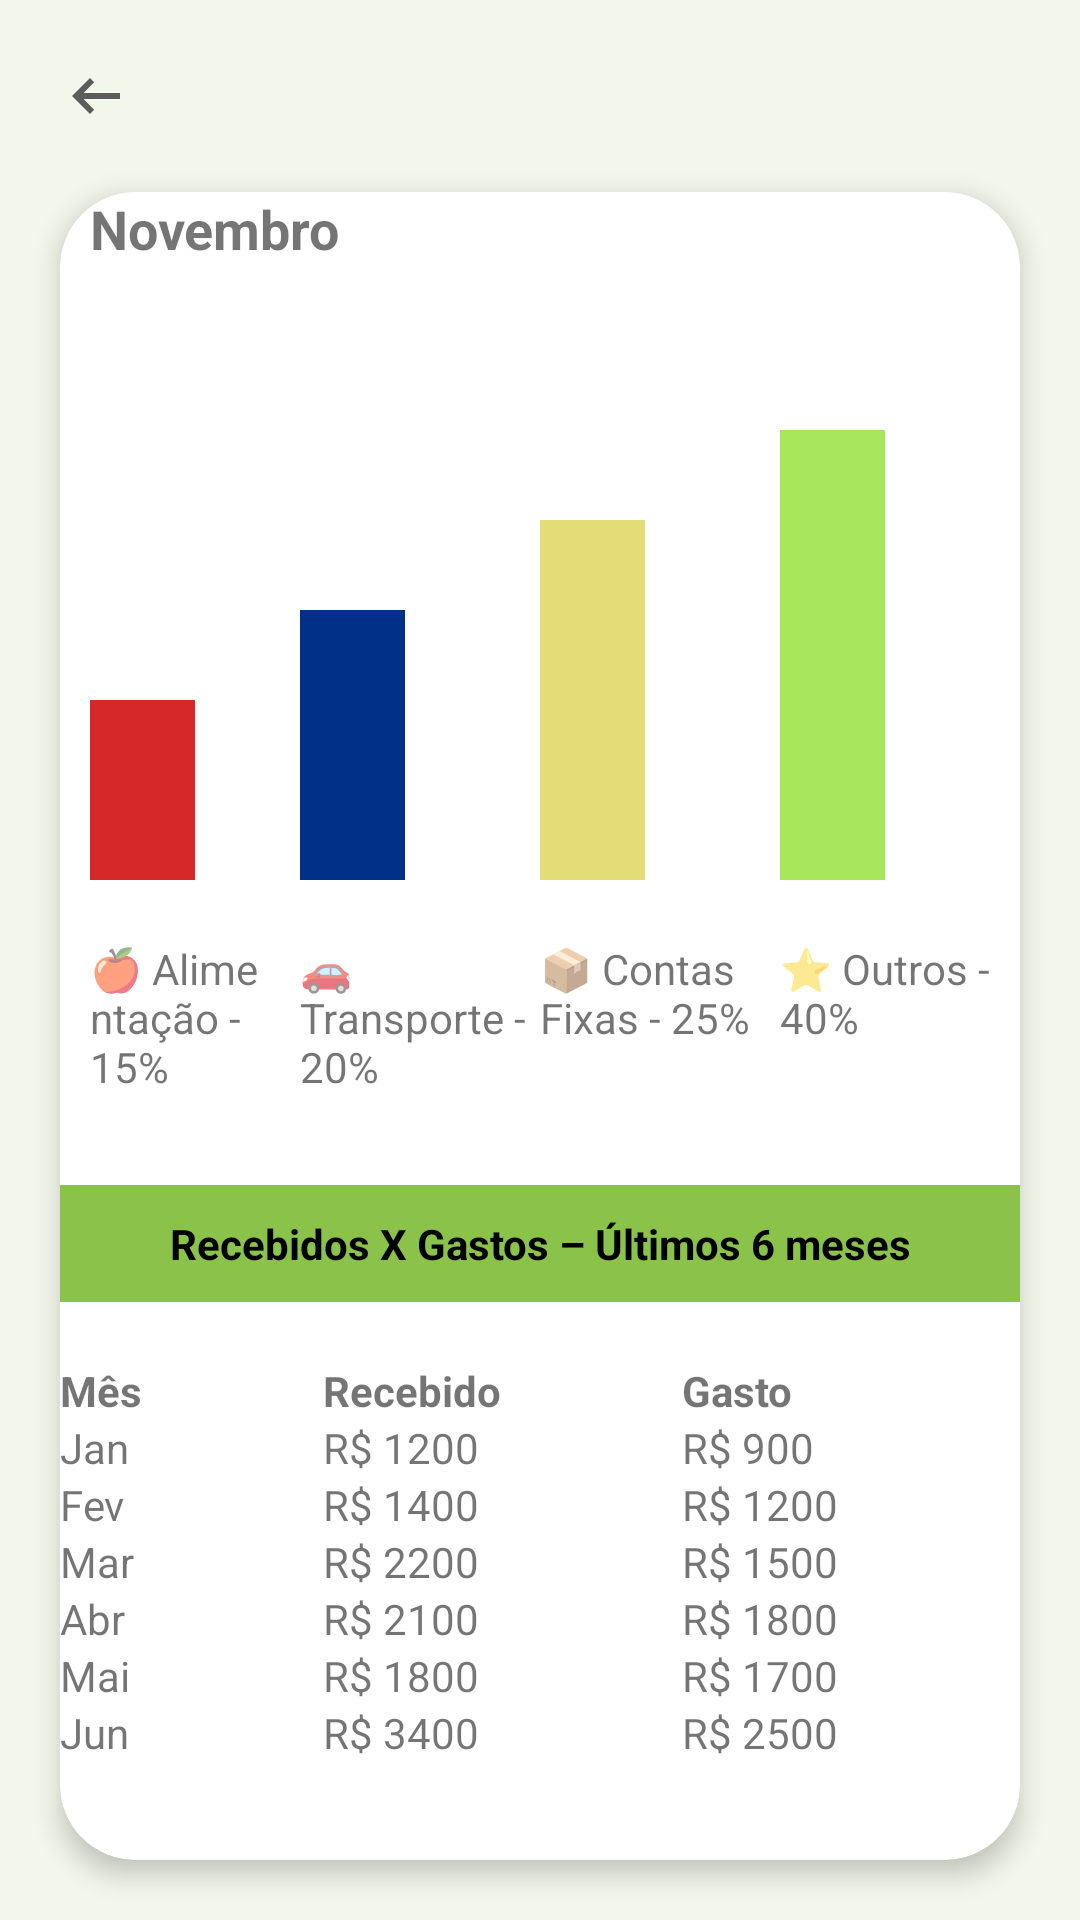

Point at icon controls on the screen. Image size 1080x1920, points as (x,y).
arrow back: (96,96)
